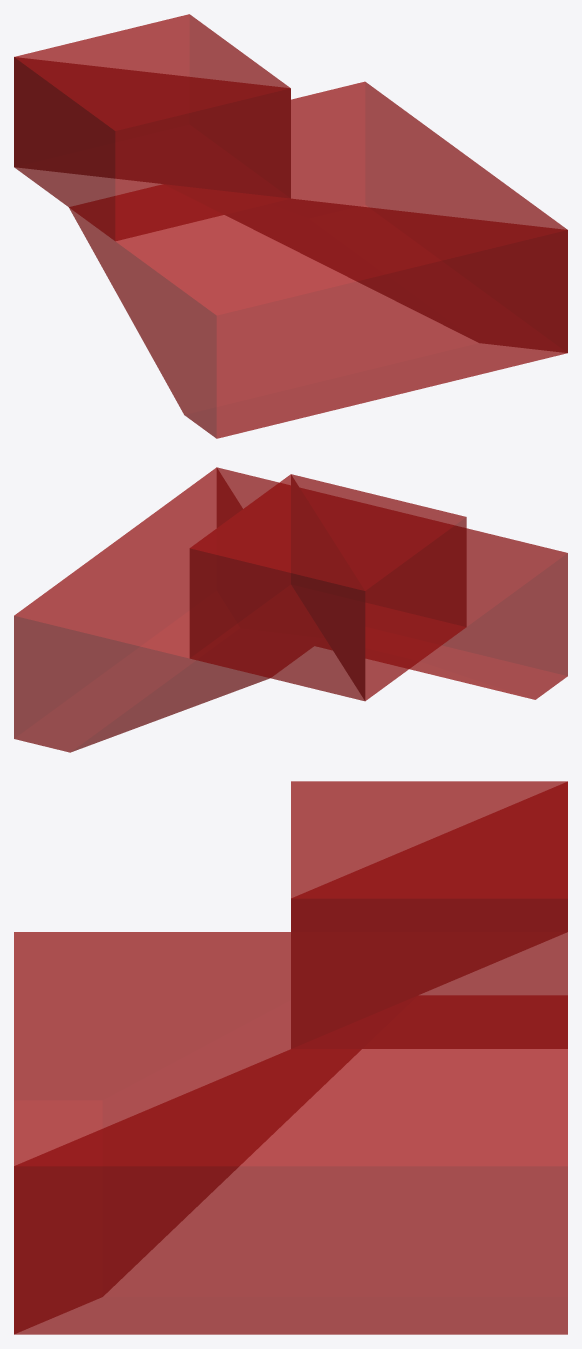
The model's file is SM_Bld_Step_02_Corner_01_Collision.fbx.
The picture shows the model from 3 angles, top to bottom: view 1: azimuth 30°, elevation 25°; view 2: azimuth 150°, elevation 25°; view 3: azimuth 270°, elevation 25°; orthographic projection. The views are drawn at different scales.
Visible parts, largest first — view 1: SM_Bld_Step_02_Corner_01_Collision; view 2: SM_Bld_Step_02_Corner_01_Collision; view 3: SM_Bld_Step_02_Corner_01_Collision.
Part boxes in pixels (left/top/right/bottom): SM_Bld_Step_02_Corner_01_Collision: left=14, top=14, right=567, bottom=438; SM_Bld_Step_02_Corner_01_Collision: left=14, top=467, right=567, bottom=752; SM_Bld_Step_02_Corner_01_Collision: left=14, top=781, right=567, bottom=1334.
Bounding box in the file's own units: 250 × 159 × 250.
